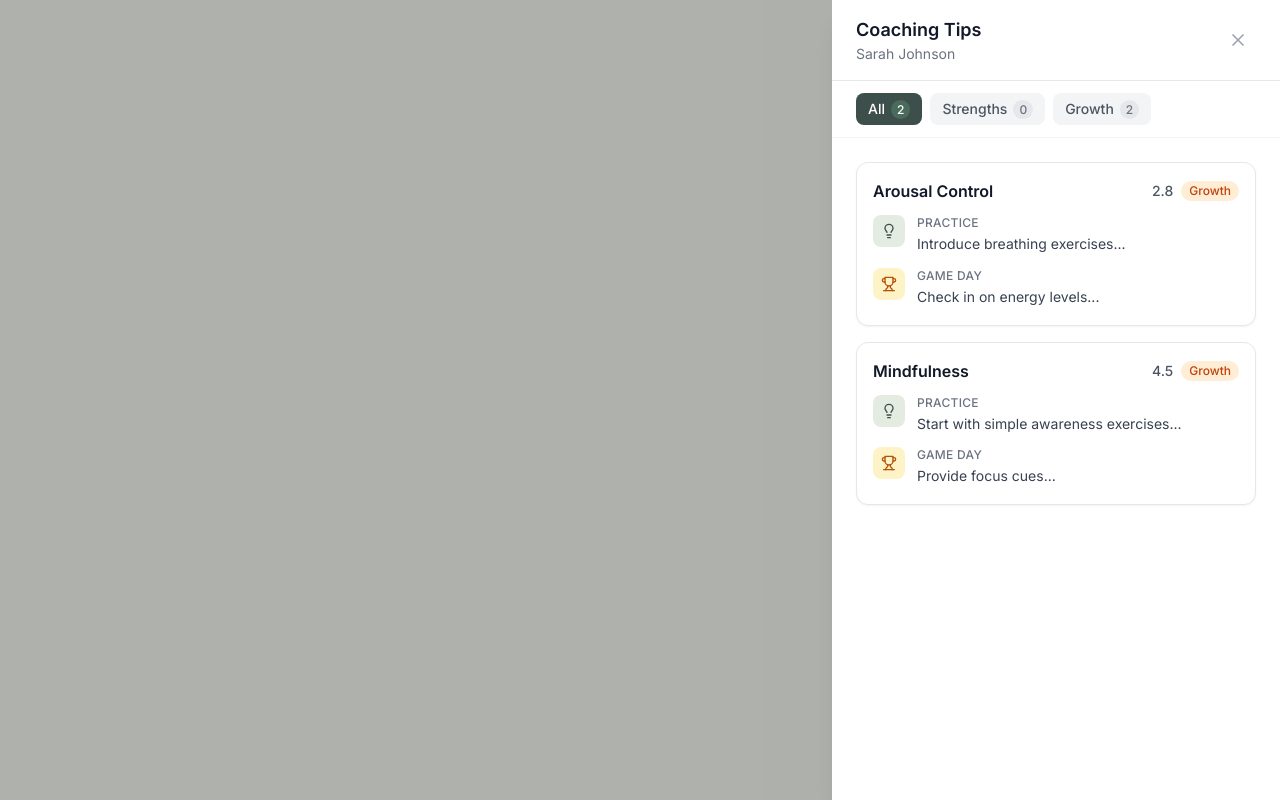
Test: CoachingTipPanel › empty states › handles athlete with all growth areas
Click the button "Strengths0".
click(988, 109)  # box [930,93,1045,125]
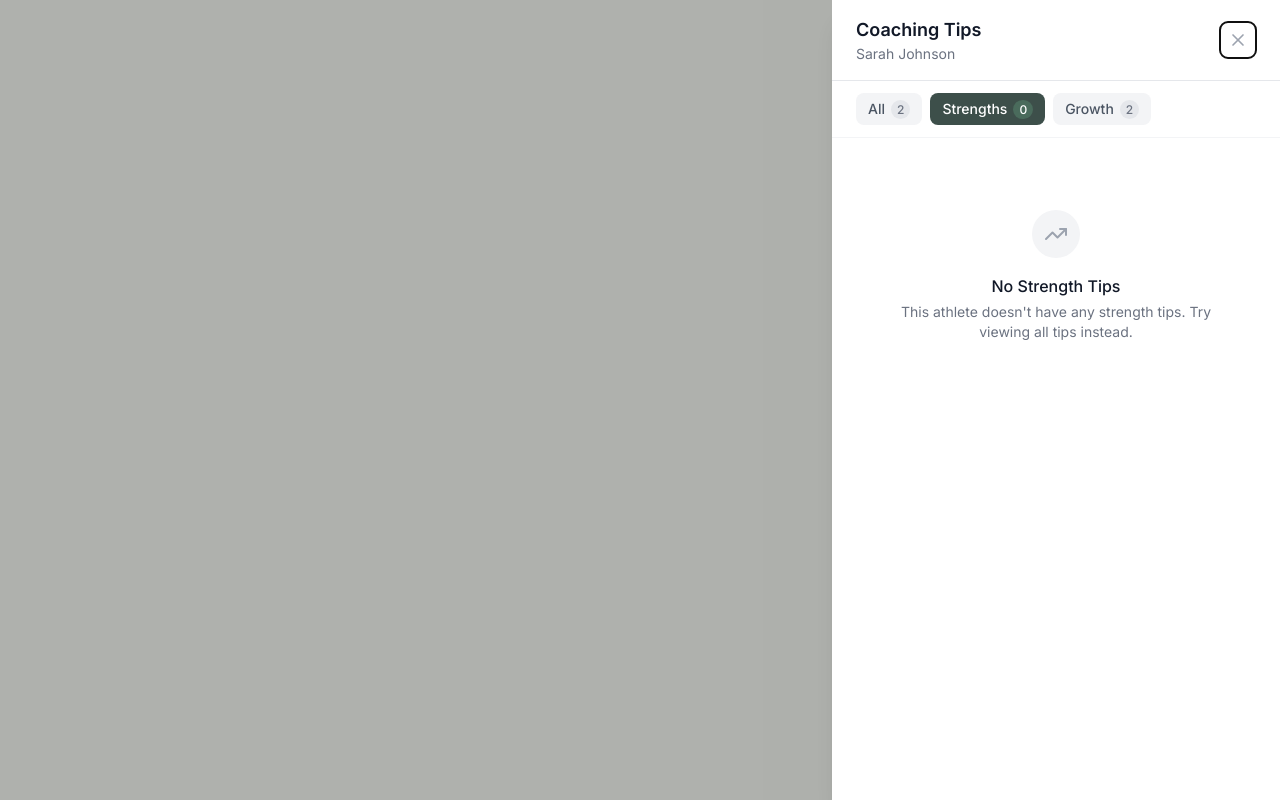
Result: the heading "No Strength Tips" is shown at [992,274,1120,298]
